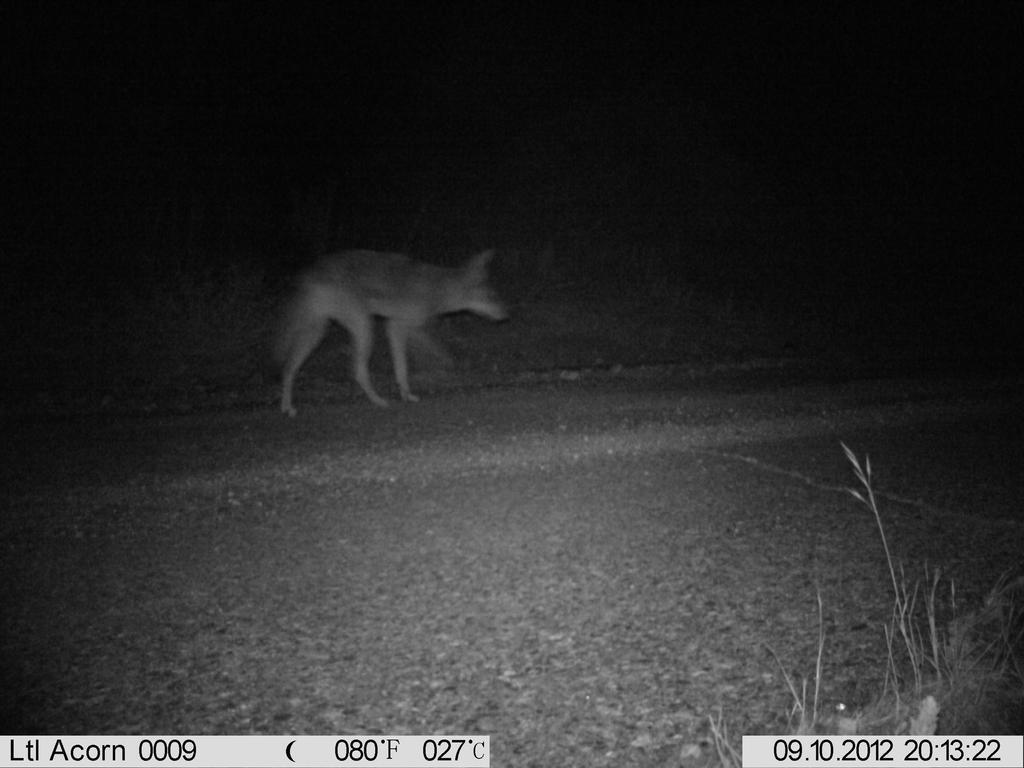coyote: (249, 228, 533, 428)
